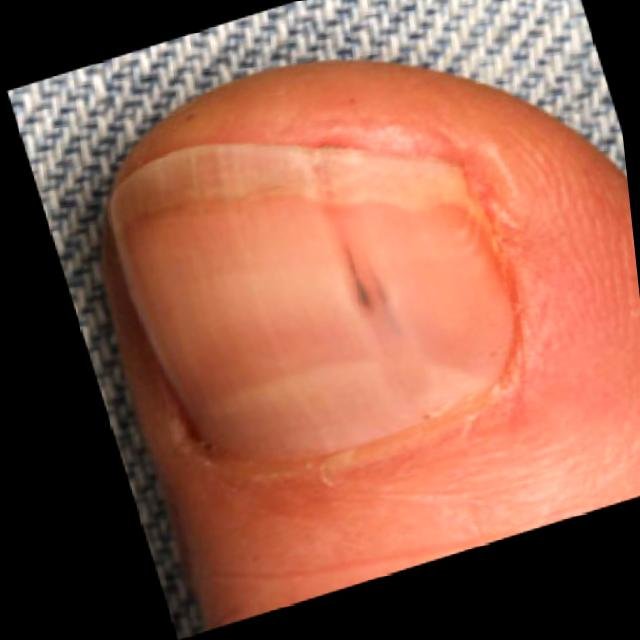Nail: (103, 147, 512, 467)
